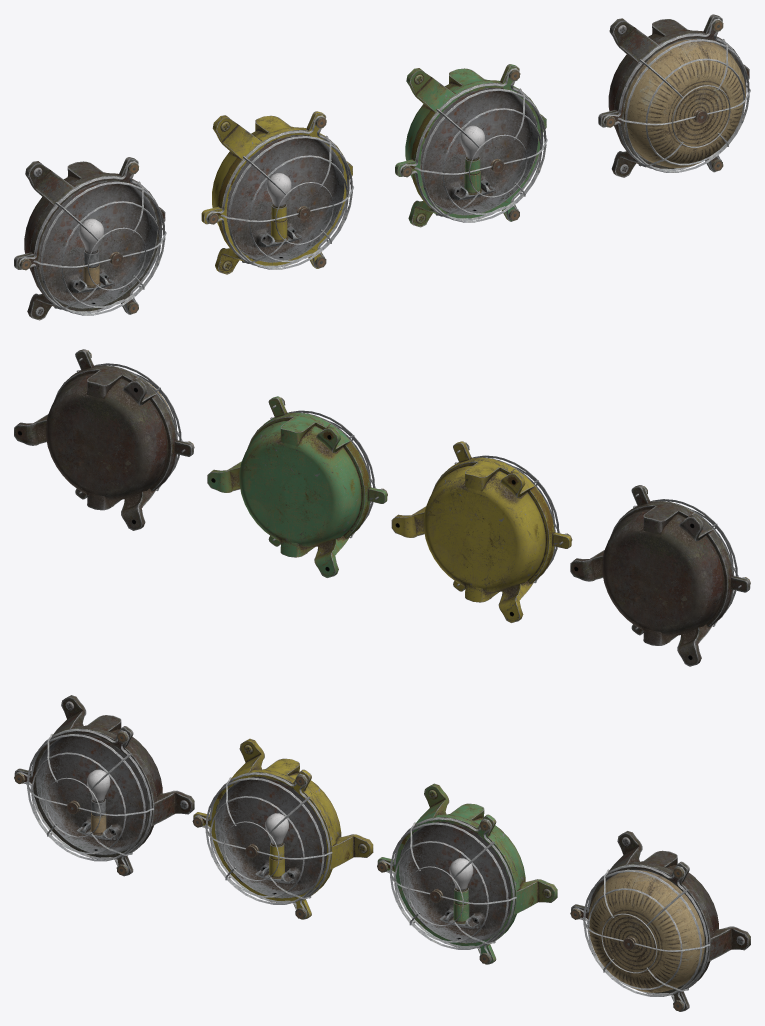
Rendered from lampadas_industriais.glb.
3 views of the same model, one above another, from view 1: azimuth 30°, elevation 25°; view 2: azimuth 150°, elevation 25°; view 3: azimuth 330°, elevation 25° (orthographic). The views are drawn at different scales.
Visible parts, largest first — view 1: 1930s Heavy Industrial Wall Lamp with Lens_0, 1930s Heavy Industrial Wall Lamp Rusty_1, 1930s Heavy Industrial Wall Lamp Painted Green_3, 1930s Heavy Industrial Wall Lamp Painted Yellow_2; view 2: 1930s Heavy Industrial Wall Lamp with Lens_0, 1930s Heavy Industrial Wall Lamp Painted Green_3, 1930s Heavy Industrial Wall Lamp Rusty_1, 1930s Heavy Industrial Wall Lamp Painted Yellow_2; view 3: 1930s Heavy Industrial Wall Lamp Painted Yellow_2, 1930s Heavy Industrial Wall Lamp Rusty_1, 1930s Heavy Industrial Wall Lamp Painted Green_3, 1930s Heavy Industrial Wall Lamp with Lens_0.
Boxes of the visible parts, <box> form: 1930s Heavy Industrial Wall Lamp with Lens_0: <box>598,14,750,177</box>; 1930s Heavy Industrial Wall Lamp Rusty_1: <box>14,157,166,320</box>; 1930s Heavy Industrial Wall Lamp Painted Green_3: <box>395,64,547,227</box>; 1930s Heavy Industrial Wall Lamp Painted Yellow_2: <box>201,111,353,274</box>; 1930s Heavy Industrial Wall Lamp with Lens_0: <box>14,349,194,530</box>; 1930s Heavy Industrial Wall Lamp Painted Green_3: <box>207,396,387,577</box>; 1930s Heavy Industrial Wall Lamp Rusty_1: <box>570,485,750,666</box>; 1930s Heavy Industrial Wall Lamp Painted Yellow_2: <box>391,441,572,622</box>; 1930s Heavy Industrial Wall Lamp Painted Yellow_2: <box>192,738,373,919</box>; 1930s Heavy Industrial Wall Lamp Rusty_1: <box>14,695,194,876</box>; 1930s Heavy Industrial Wall Lamp Painted Green_3: <box>377,783,557,964</box>; 1930s Heavy Industrial Wall Lamp with Lens_0: <box>570,831,750,1011</box>.
Size of the model in its own units: 1.62 by 0.3235 by 0.1584.
Materials: 3 (3 with a texture image).
